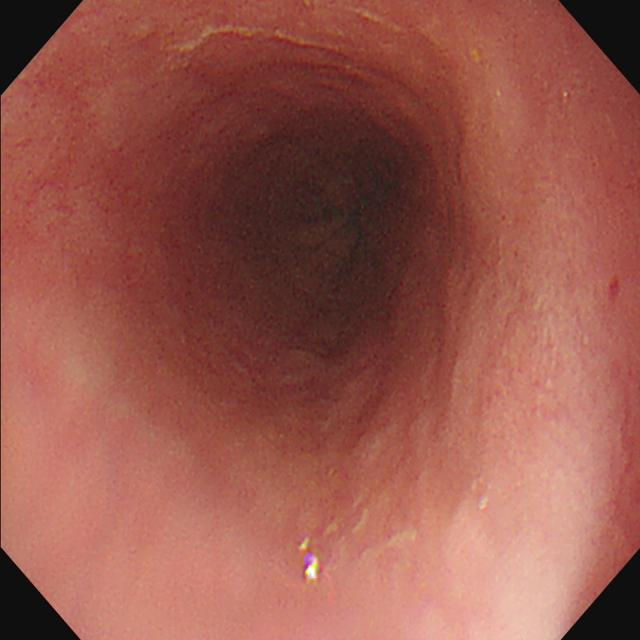U: (300, 539, 321, 583)
